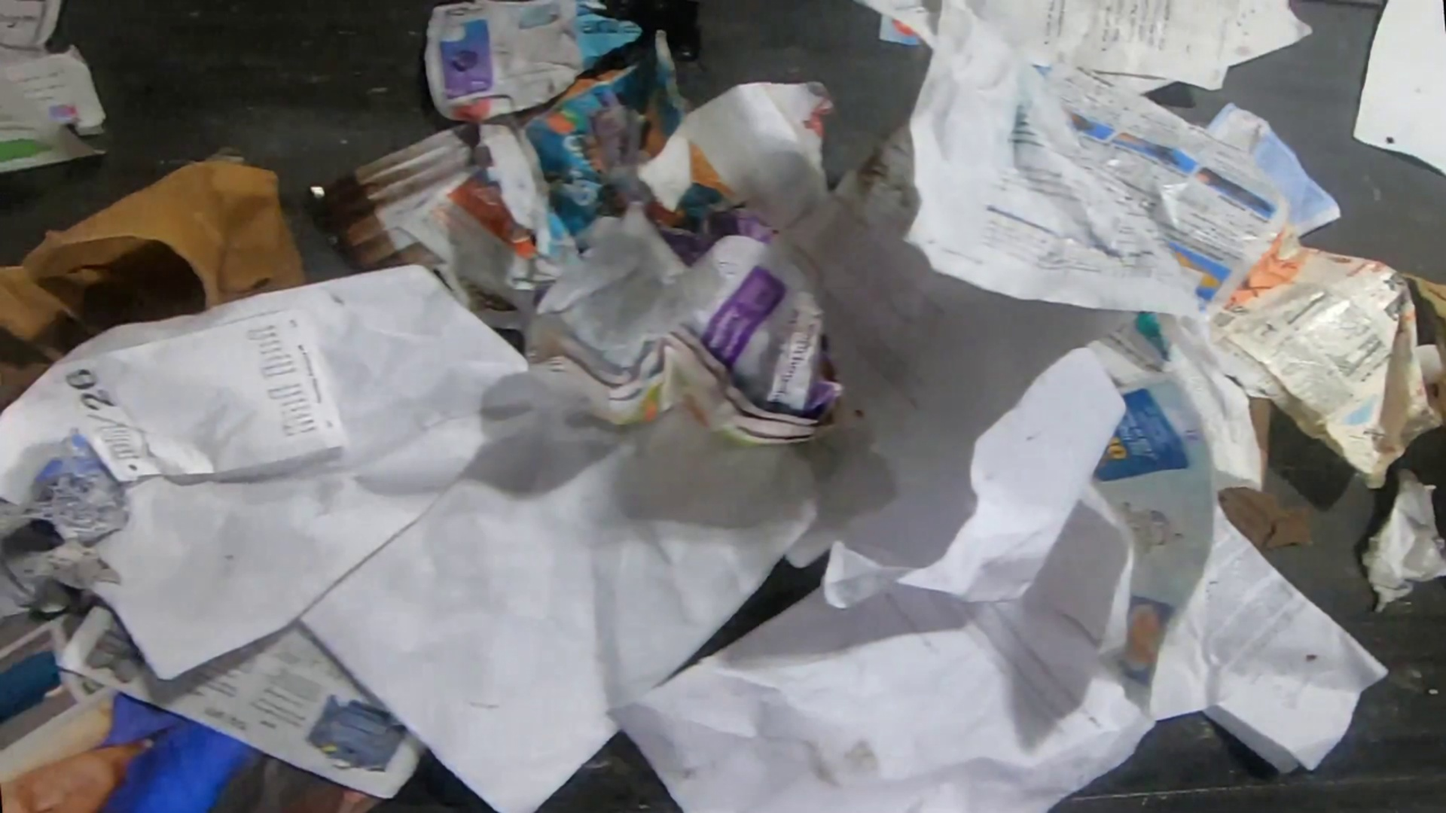cardboard: (0, 157, 311, 414), (1205, 217, 1446, 492), (423, 0, 644, 123), (0, 0, 109, 176), (1397, 270, 1446, 326), (1251, 397, 1273, 490)
metal: (302, 182, 345, 252)
plastic: (578, 0, 702, 81)
